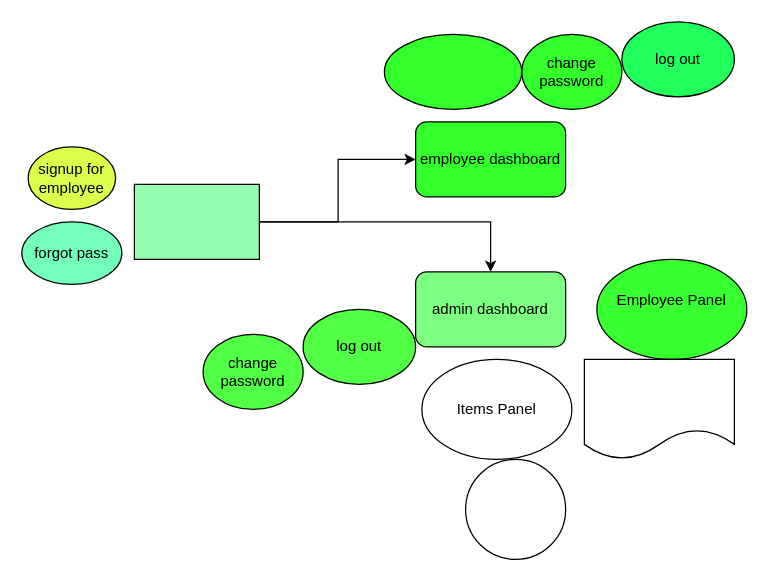
This 769x581 diagram has some shape labels left out. Each missing label, with the box of its shape:
Assign and Unassign Items: (464, 458, 566, 559)
items assigned to emploee: (383, 33, 522, 109)
login page: (133, 183, 259, 259)
VIEW ADD UPDATE DELETE: (583, 358, 734, 459)
